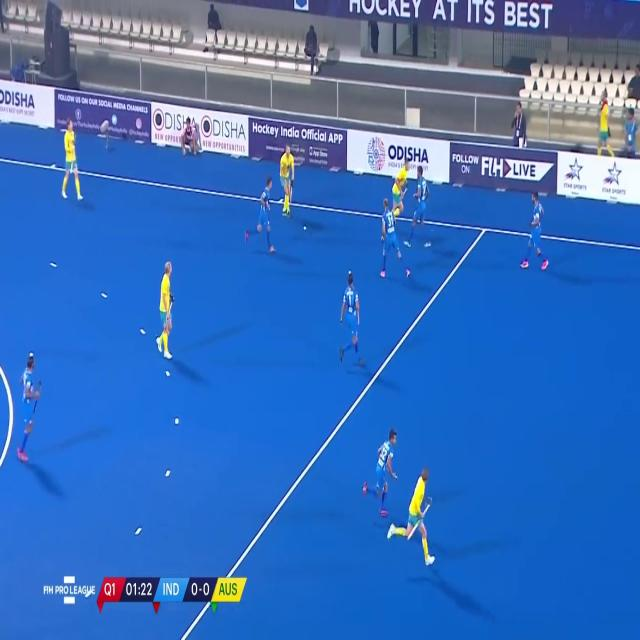ball: (302, 223, 308, 233)
